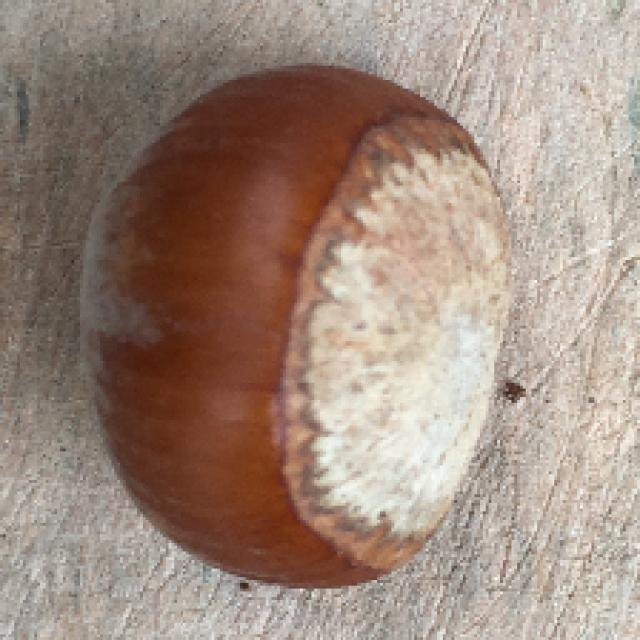qualityHazelnut: (77, 60, 515, 588)
